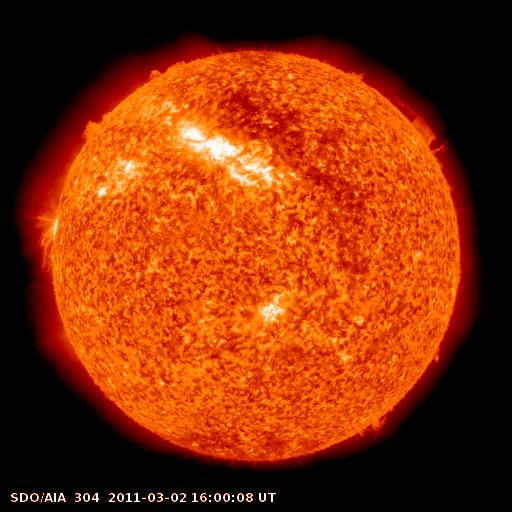prominence: (390, 88, 462, 161), (350, 397, 403, 444), (74, 106, 124, 147), (138, 53, 195, 87)
